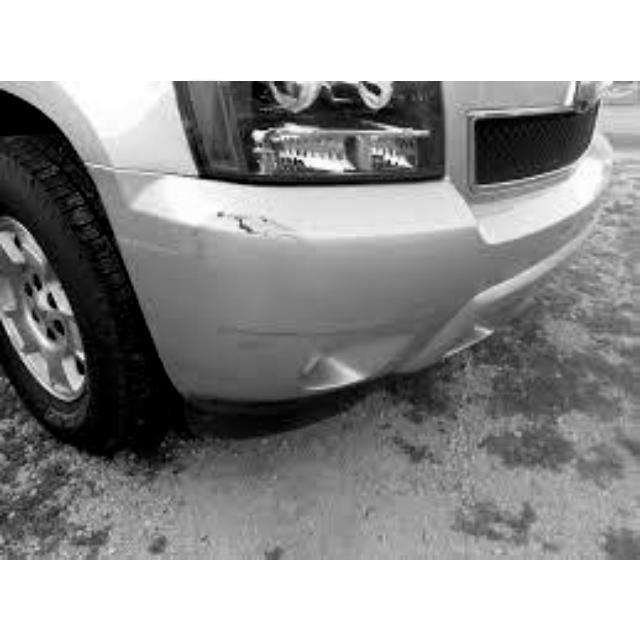front-bumper-dent: (67, 150, 410, 406)
